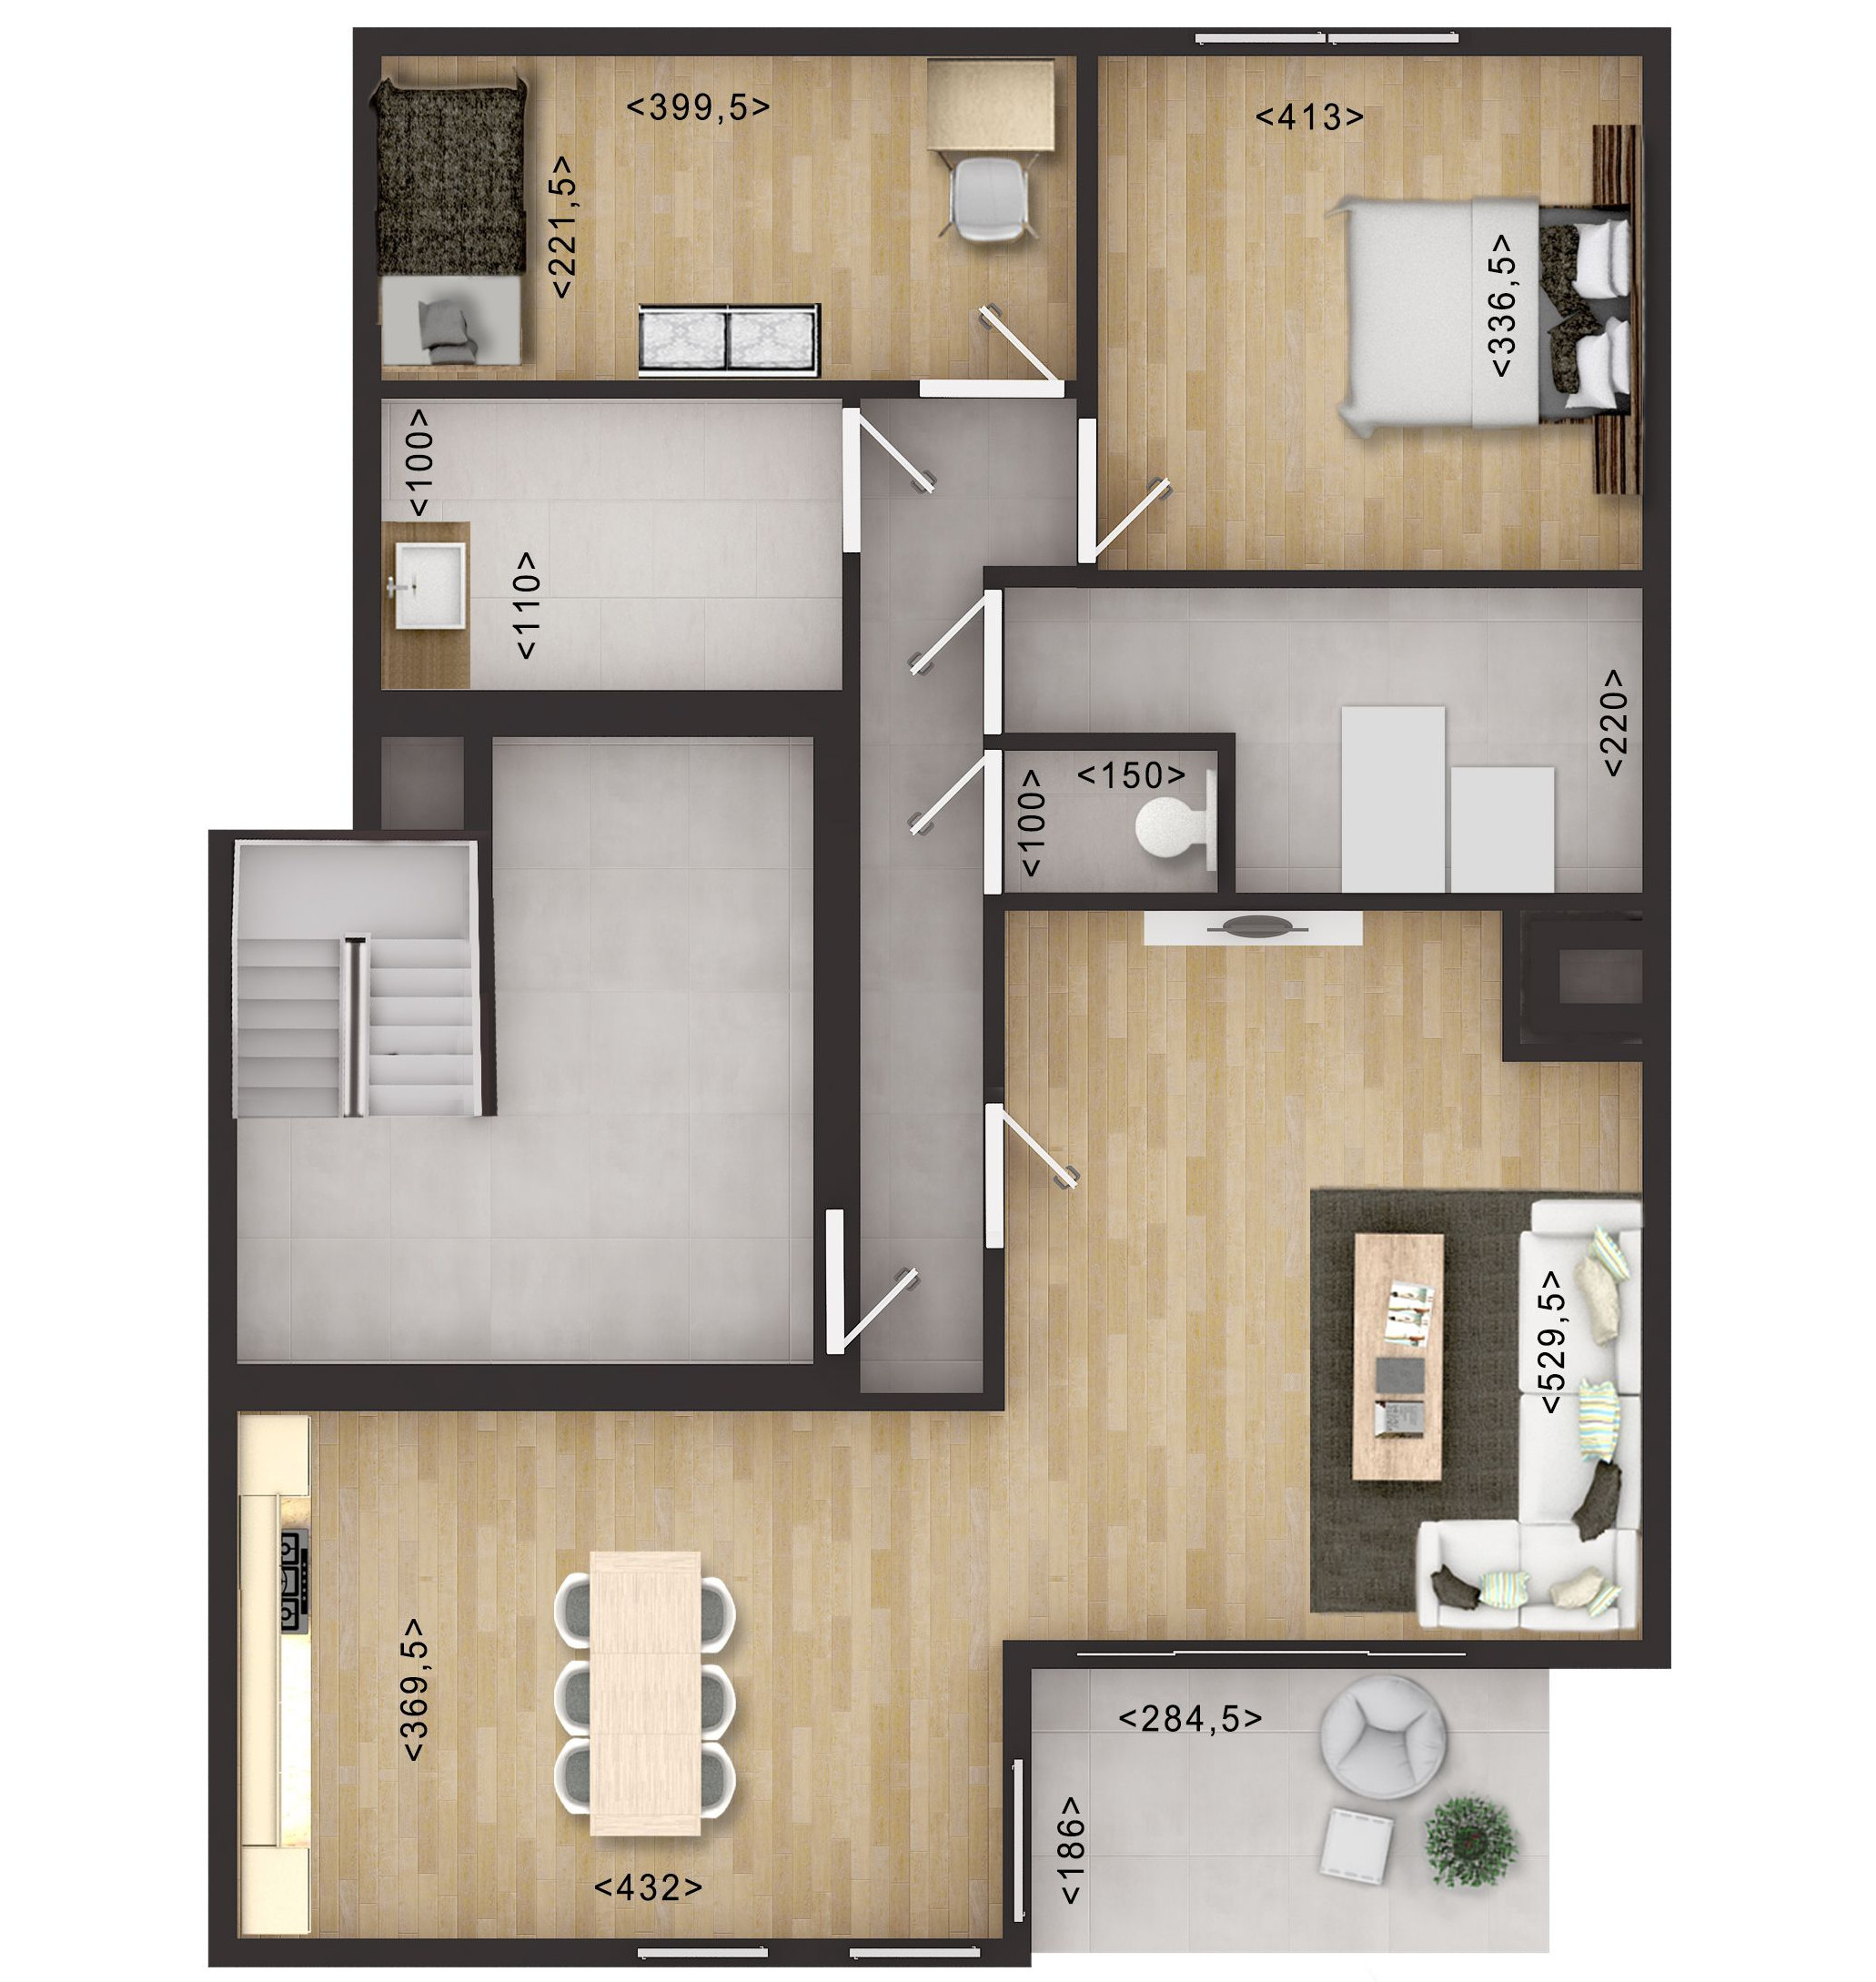room: (968, 883, 1698, 1686), (196, 1352, 1046, 1982), (1072, 9, 1682, 587), (342, 16, 1105, 407), (970, 563, 1680, 924), (342, 377, 869, 742)
